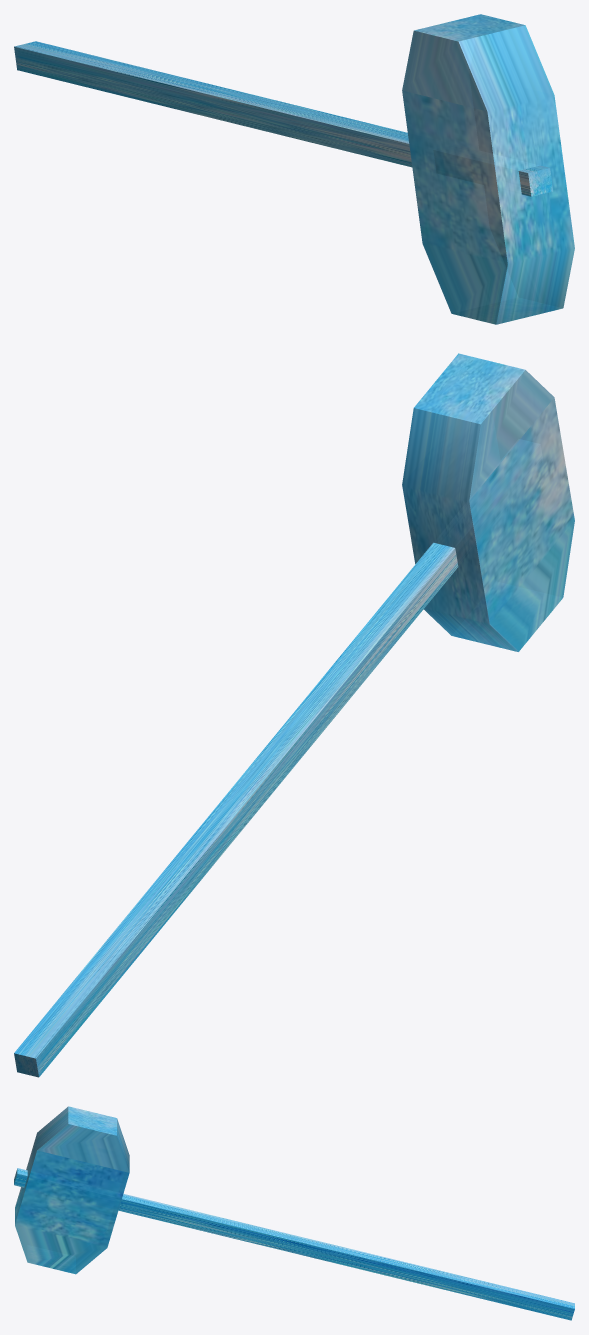
The model's file is hammer(Jotun 1).fbx.
3 views of the same model, one above another, from view 1: azimuth 30°, elevation 25°; view 2: azimuth 150°, elevation 25°; view 3: azimuth 270°, elevation 25° (orthographic). The views are drawn at different scales.
Parts seen in each view (by area): view 1: pCube4; view 2: pCube4; view 3: pCube4.
Part boxes in pixels (bbox=[...]): pCube4: bbox=[14, 14, 574, 324]; pCube4: bbox=[14, 353, 574, 1077]; pCube4: bbox=[14, 1106, 574, 1320].
Bounding box in the file's own units: 0.8295 × 4.41 × 11.07.
Materials: 2 (2 with a texture image).
